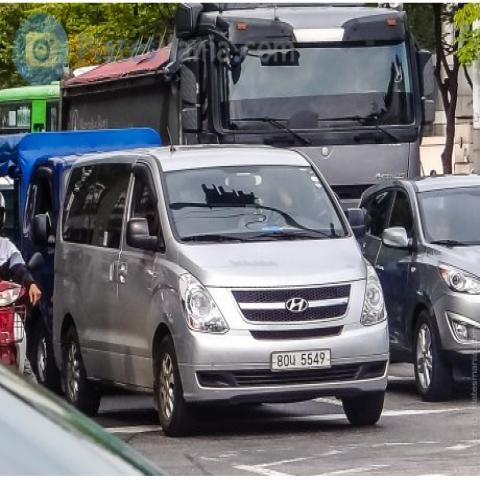LP: (265, 346, 340, 378)
